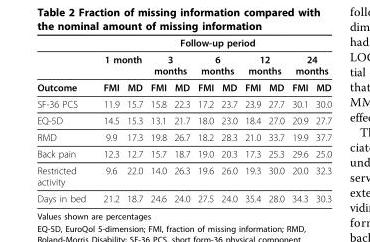table: (36, 36, 331, 203)
table column: (36, 36, 93, 203), (93, 36, 122, 203), (122, 36, 146, 203), (169, 36, 193, 203), (216, 36, 240, 203), (240, 36, 264, 203), (287, 36, 311, 203), (146, 36, 169, 203), (193, 36, 216, 203), (264, 36, 287, 203), (311, 36, 331, 203)
table column header: (36, 36, 331, 95)
table row: (36, 50, 331, 78), (36, 161, 331, 189), (36, 78, 331, 95), (36, 111, 331, 128), (36, 128, 331, 145), (36, 95, 331, 111), (36, 145, 331, 161), (36, 36, 331, 50), (36, 189, 331, 203)
table spanning cell: (36, 36, 93, 95), (93, 36, 331, 50), (93, 50, 146, 78), (146, 50, 193, 78), (193, 50, 240, 78), (240, 50, 287, 78), (287, 50, 331, 78)
